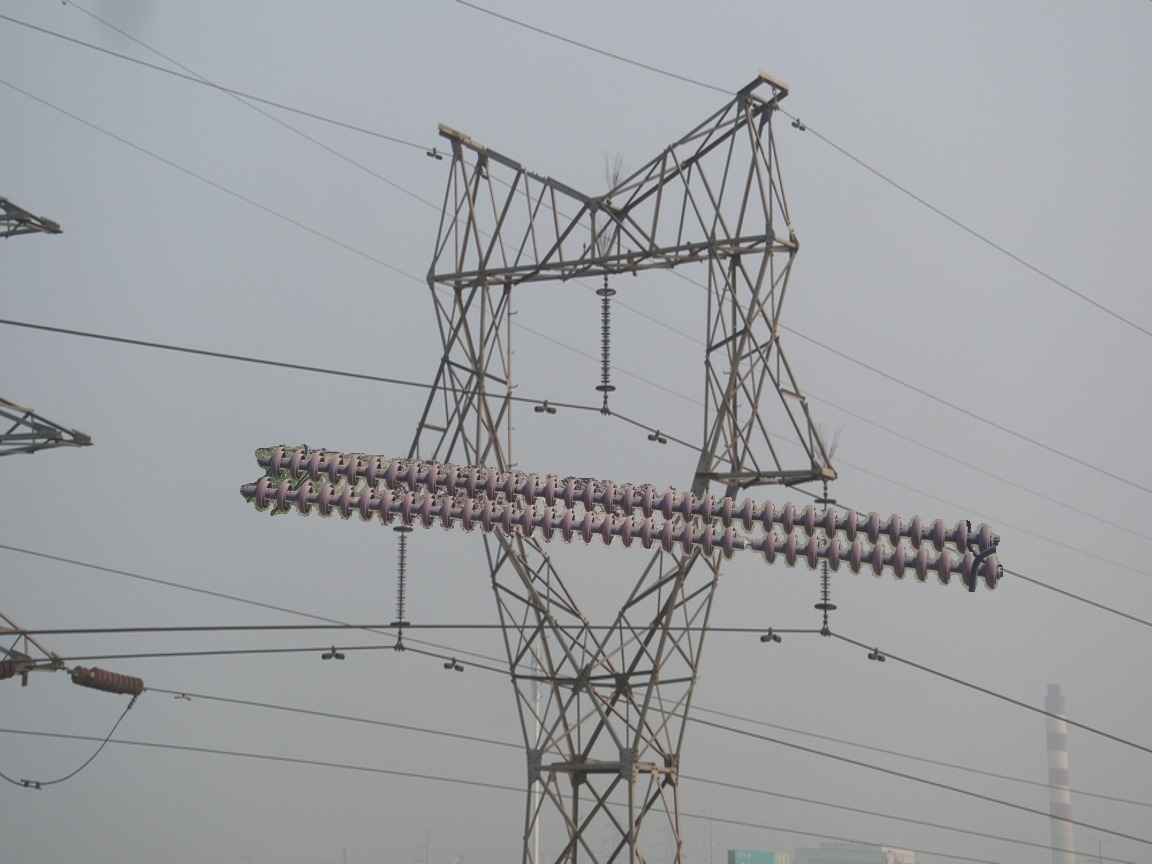defect: (715, 522, 785, 565)
